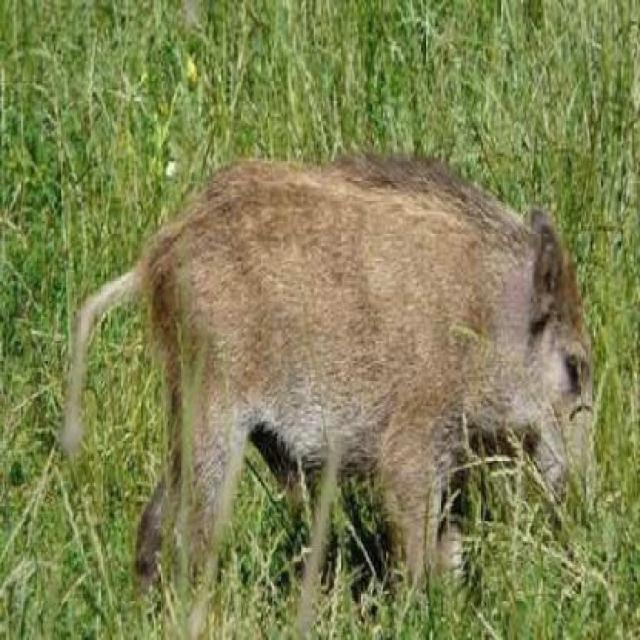Boar: (81, 115, 605, 603)
